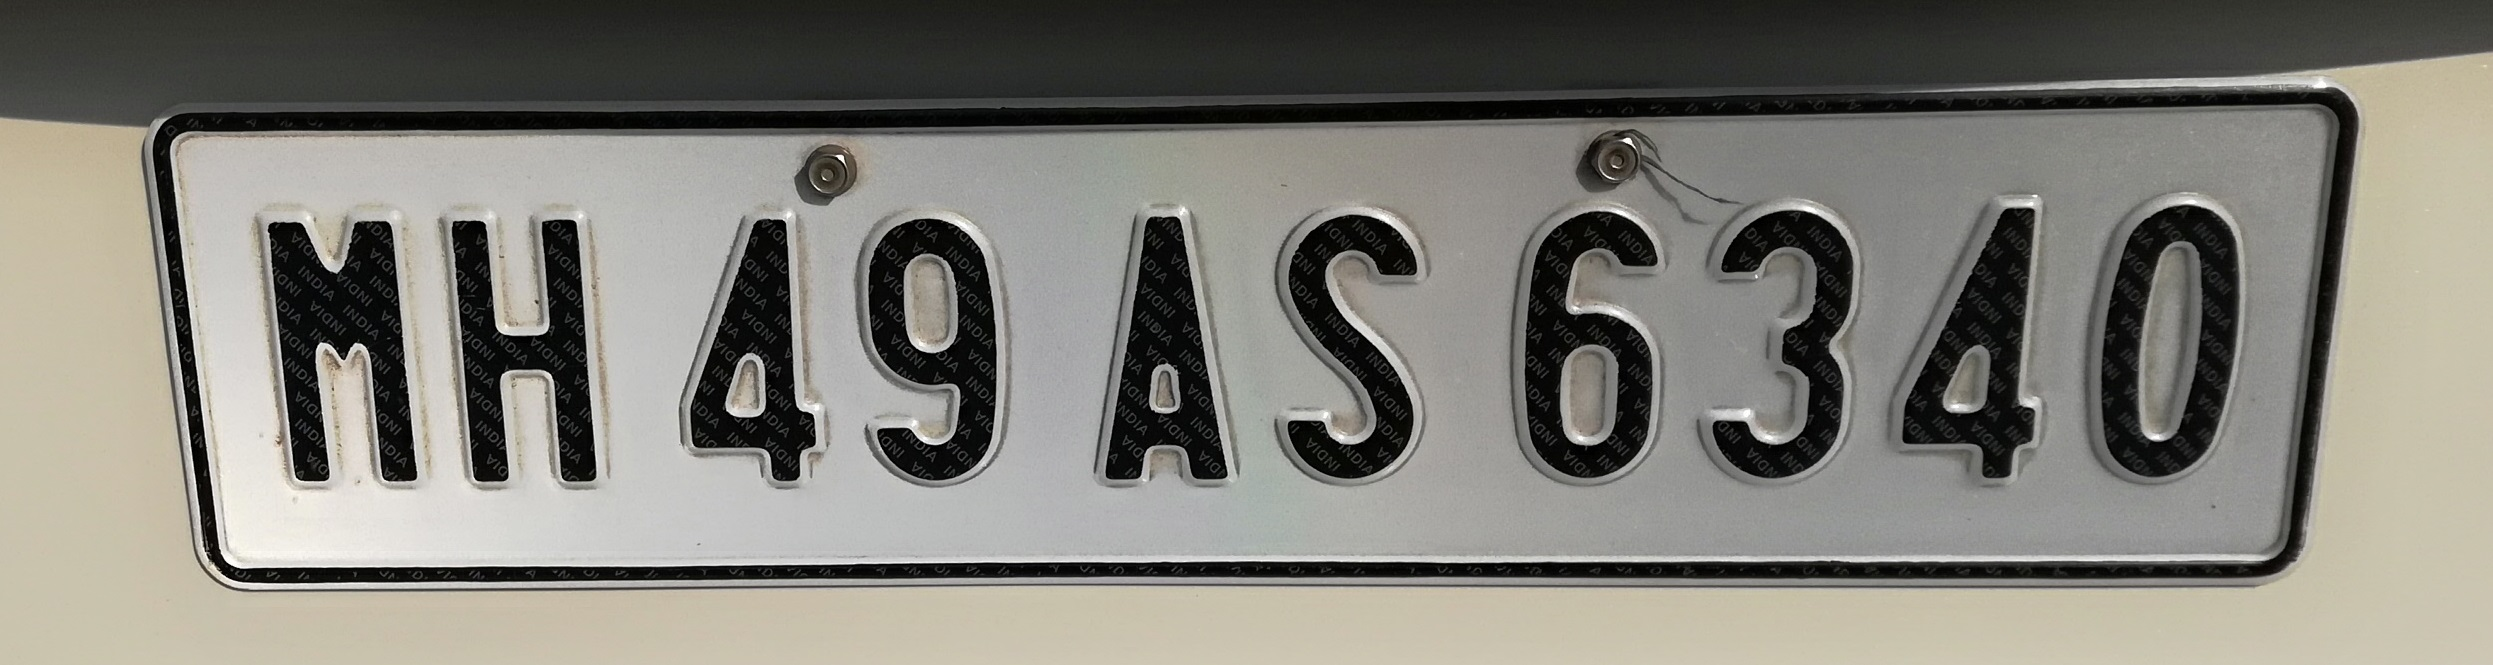numberplate: (135, 79, 2360, 596)
